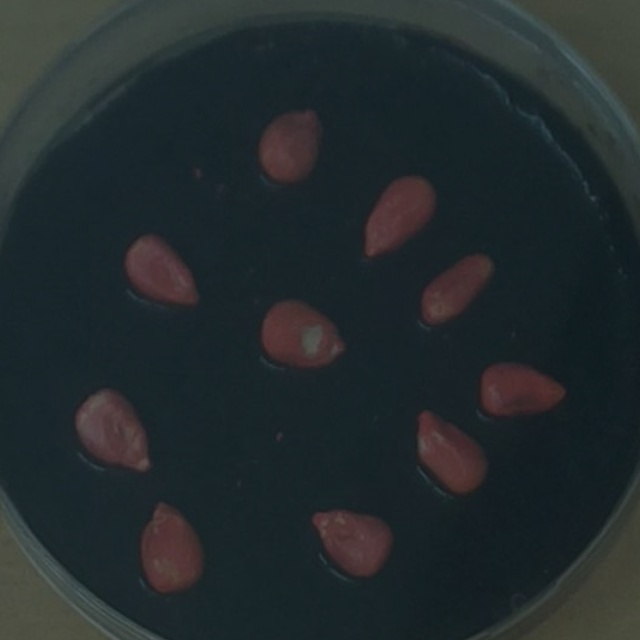Zea mays: (66, 378, 160, 485), (129, 491, 215, 603), (352, 166, 443, 269), (408, 402, 497, 502), (302, 499, 402, 587), (254, 288, 354, 376), (116, 224, 210, 316), (412, 242, 504, 335), (473, 351, 576, 425), (251, 100, 331, 192)
